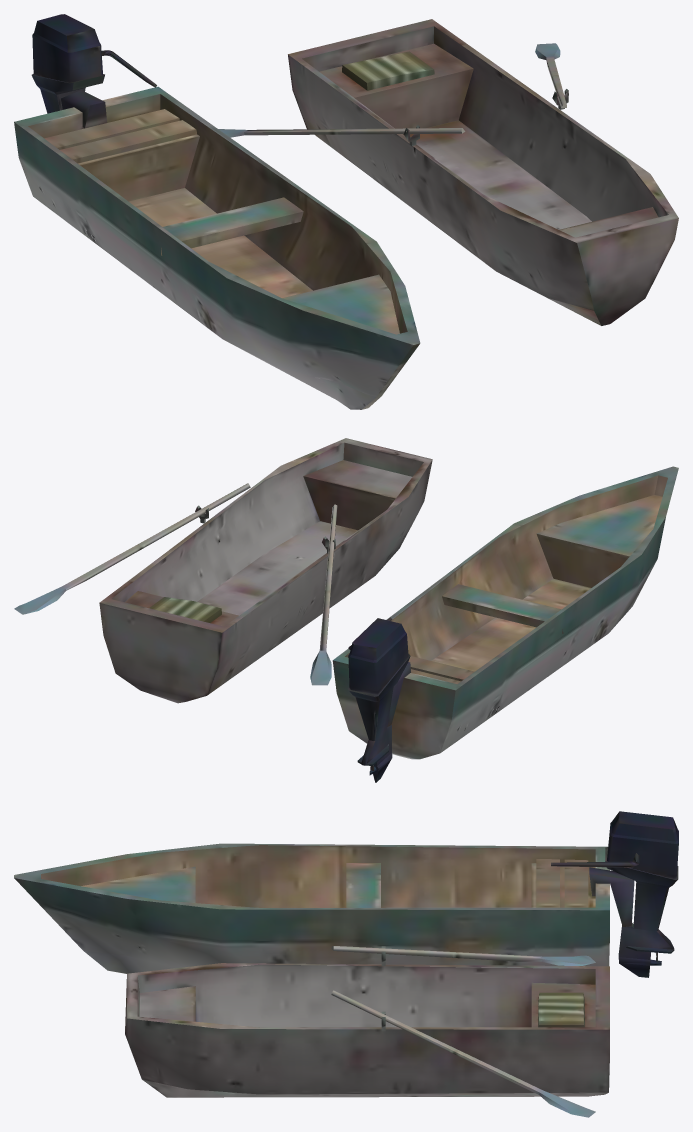
File: boat.glb
The picture shows the model from 3 angles, top to bottom: view 1: azimuth 30°, elevation 25°; view 2: azimuth 150°, elevation 25°; view 3: azimuth 270°, elevation 25°; orthographic projection. The views are drawn at different scales.
Visible parts, largest first — view 1: Cube, Cube.002, Cube.001; view 2: Cube, Cube.002, Cube.001; view 3: Cube, Cube.002, Cube.001.
Boxes of the visible parts, x1,y1,x2,y2 form: Cube: (14, 14, 568, 409); Cube.002: (288, 19, 678, 325); Cube.001: (218, 43, 566, 137); Cube: (149, 466, 678, 782); Cube.002: (99, 438, 432, 703); Cube.001: (14, 483, 337, 685); Cube: (14, 811, 678, 1031); Cube.002: (125, 963, 609, 1097); Cube.001: (331, 946, 595, 1117).
Size of the model in its own units: 4.2 by 1.34 by 5.04.
Materials: 1 (1 with a texture image).
